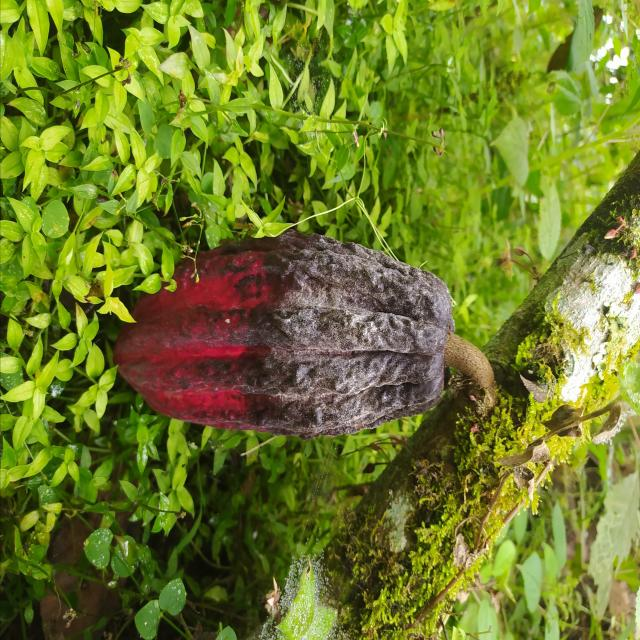Fitoftora: (114, 234, 455, 438)
